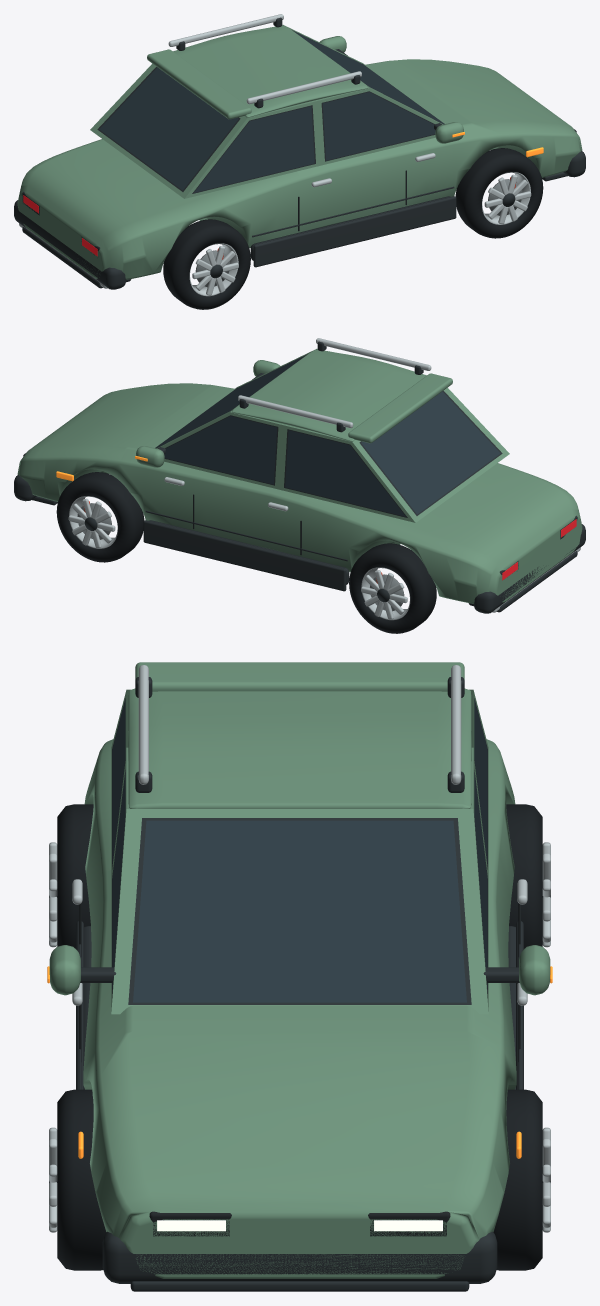
The model's file is city-suv-v1.glb.
The picture shows the model from 3 angles, top to bottom: view 1: azimuth 30°, elevation 25°; view 2: azimuth 150°, elevation 25°; view 3: azimuth 270°, elevation 25°; orthographic projection. The views are drawn at different scales.
Visible parts, largest first — view 1: Sculpted one-piece painted body, Crowned painted roof, Rear windscreen, Rear side glass, Front side glass, Matte SUV rocker cladding, Rounded tire rear_left, Rounded tire front_left, SUV rear roof spoiler, Front windscreen, Rear energy-absorbing bumper, Raised roof rail (+12 smaller); view 2: Sculpted one-piece painted body, Crowned painted roof, Rear windscreen, Rear side glass.001, Front side glass.001, Matte SUV rocker cladding.001, Rounded tire rear_right, Rounded tire front_right, SUV rear roof spoiler, Front windscreen, Rear energy-absorbing bumper, Raised roof rail.001 (+12 smaller); view 3: Sculpted one-piece painted body, Front windscreen, Crowned painted roof, Front energy-absorbing bumper, SUV rear roof spoiler, Rounded tire front_left, Rounded tire front_right, Rounded tire rear_right, Rounded tire rear_left, Front splitter, Front windscreen painted frame.001, Front windscreen painted frame.003 (+17 smaller).
Boxes of the visible parts, left/top/right/bottom form: Sculpted one-piece painted body: left=17, top=59, right=582, bottom=279; Crowned painted roof: left=173, top=25, right=367, bottom=117; Rear windscreen: left=99, top=67, right=238, bottom=190; Rear side glass: left=194, top=106, right=314, bottom=192; Front side glass: left=322, top=92, right=435, bottom=160; Matte SUV rocker cladding: left=253, top=196, right=456, bottom=267; Rounded tire rear_left: left=163, top=219, right=250, bottom=309; Rounded tire front_left: left=455, top=148, right=543, bottom=238; SUV rear roof spoiler: left=147, top=49, right=251, bottom=119; Front windscreen: left=294, top=31, right=444, bottom=124; Rear energy-absorbing bumper: left=14, top=200, right=126, bottom=289; Raised roof rail: left=246, top=71, right=361, bottom=104; Sculpted one-piece painted body: left=17, top=383, right=582, bottom=603; Crowned painted roof: left=232, top=349, right=426, bottom=441; Rear windscreen: left=361, top=391, right=500, bottom=514; Rear side glass.001: left=285, top=430, right=405, bottom=516; Front side glass.001: left=164, top=416, right=277, bottom=484; Matte SUV rocker cladding.001: left=143, top=520, right=346, bottom=591; Rounded tire rear_right: left=349, top=543, right=436, bottom=633; Rounded tire front_right: left=56, top=472, right=144, bottom=562; SUV rear roof spoiler: left=348, top=373, right=452, bottom=443; Front windscreen: left=155, top=355, right=305, bottom=448; Rear energy-absorbing bumper: left=473, top=524, right=585, bottom=613; Raised roof rail.001: left=238, top=395, right=353, bottom=428; Sculpted one-piece painted body: left=83, top=739, right=516, bottom=1278; Front windscreen: left=133, top=820, right=466, bottom=1002; Crowned painted roof: left=128, top=688, right=471, bottom=808; Front energy-absorbing bumper: left=102, top=1231, right=497, bottom=1283; SUV rear roof spoiler: left=135, top=662, right=464, bottom=691; Rounded tire front_left: left=57, top=1089, right=106, bottom=1270; Rounded tire front_right: left=493, top=1089, right=542, bottom=1270; Rounded tire rear_right: left=506, top=804, right=542, bottom=948; Rounded tire rear_left: left=57, top=804, right=93, bottom=948; Front splitter: left=130, top=1281, right=469, bottom=1291; Front windscreen painted frame.001: left=458, top=809, right=488, bottom=1013; Front windscreen painted frame.003: left=111, top=809, right=141, bottom=1013.
Bounding box in the file's own units: 4.95 × 1.81 × 2.26.
